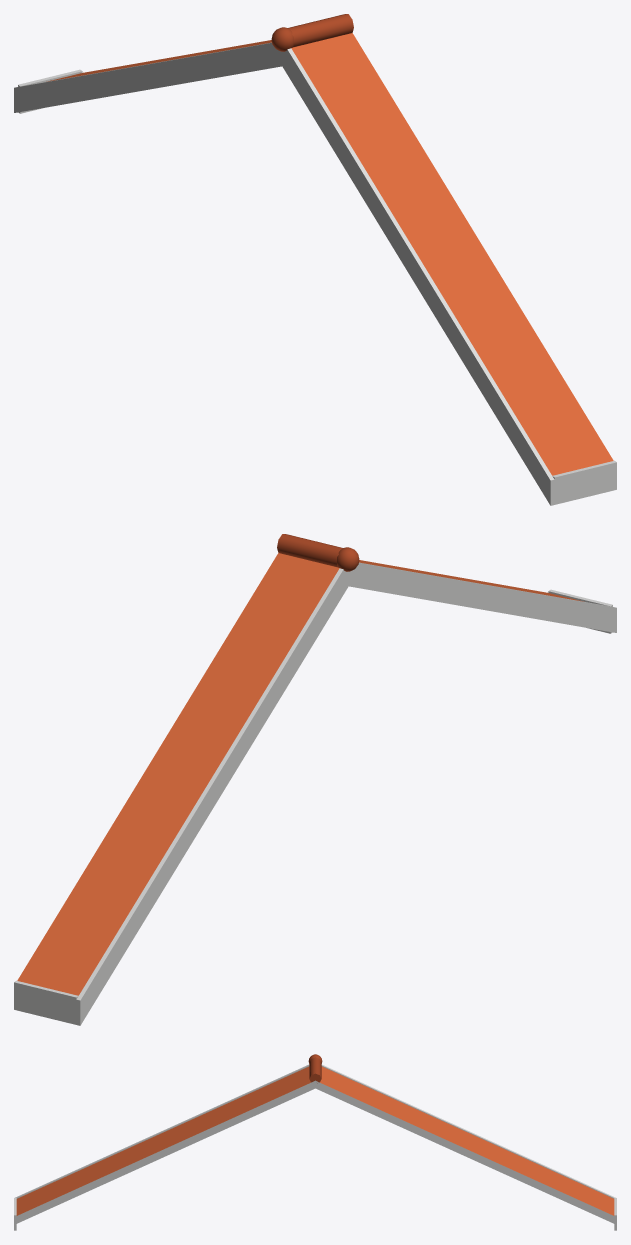
The model's file is telhado_empena_v6_i50.glb.
3 renders of one model, top to bottom at view 1: azimuth 30°, elevation 25°; view 2: azimuth 150°, elevation 25°; view 3: azimuth 270°, elevation 25°, orthographic. The views are drawn at different scales.
Visible parts, largest first — view 1: telhado_empena_v6_i50; view 2: telhado_empena_v6_i50; view 3: telhado_empena_v6_i50.
Boxes of the visible parts, bbox=[...] form: telhado_empena_v6_i50: bbox=[14, 14, 616, 505]; telhado_empena_v6_i50: bbox=[14, 534, 616, 1025]; telhado_empena_v6_i50: bbox=[14, 1054, 616, 1230].
Bounding box in the file's own units: 0.57 × 2.02 × 7.
